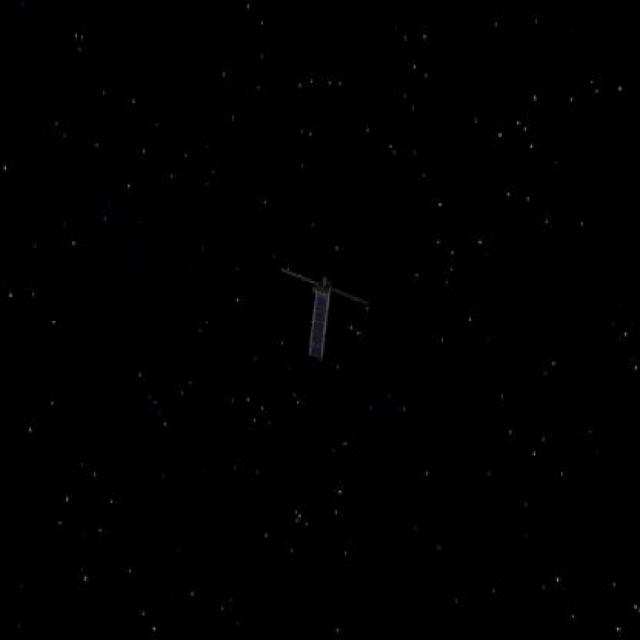medium_debris: (273, 258, 375, 358)
